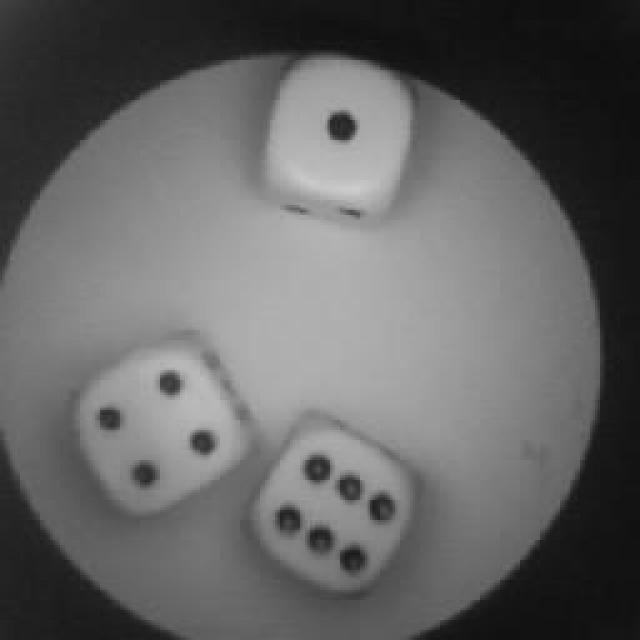dice_1: (258, 53, 418, 225)
dice_4: (68, 332, 248, 528)
dice_6: (245, 420, 410, 578)
